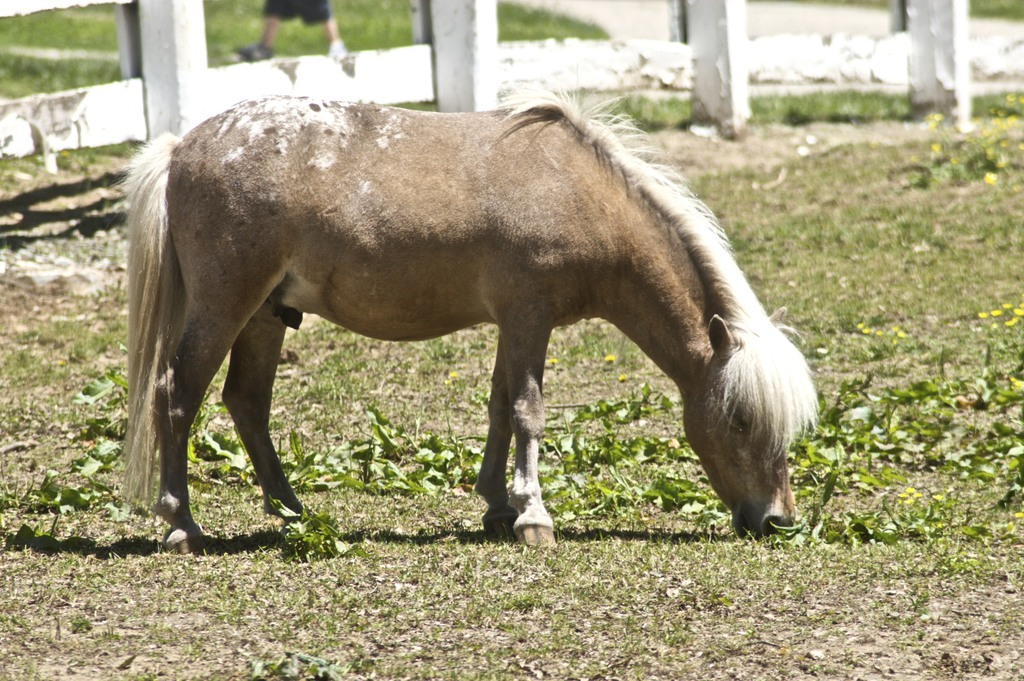horse: (115, 67, 819, 543)
